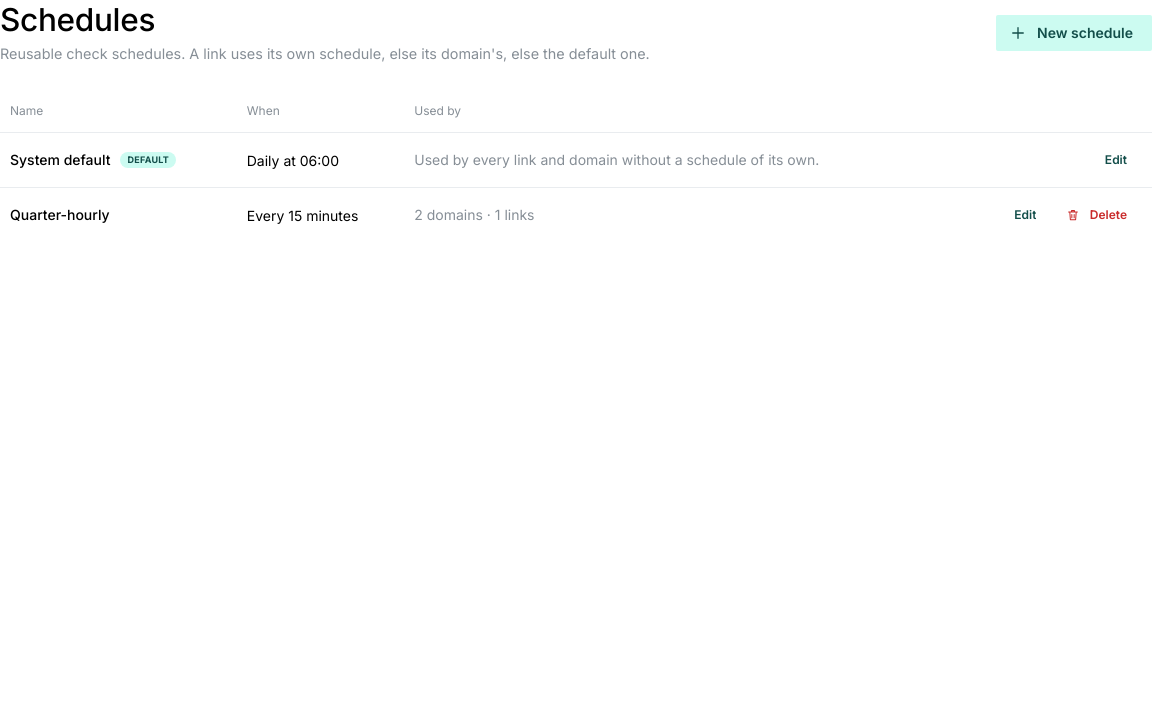
SchedulesPage — SCR-06 › FR-12: no weekday chosen and no name → errors, nothing sent
Click the button "New schedule". click: (1074, 33)
box: 996,15 -> 1151,51
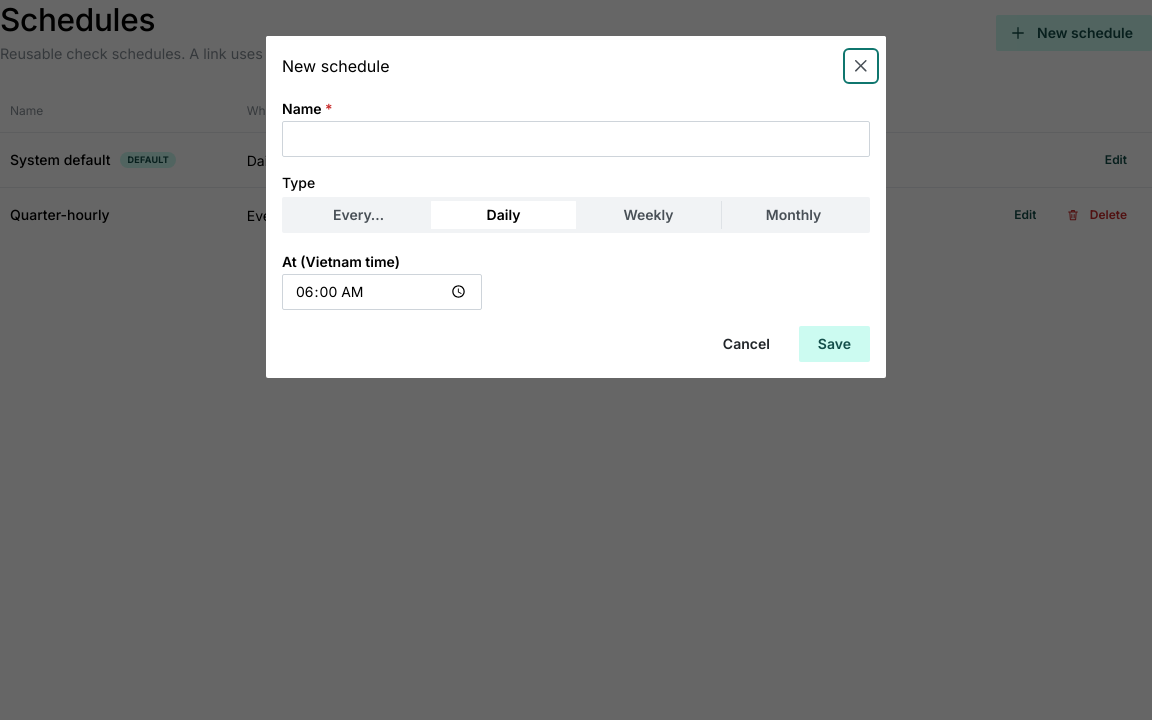
Click the text "Weekly". click: (648, 215)
box: 623,206 -> 674,223
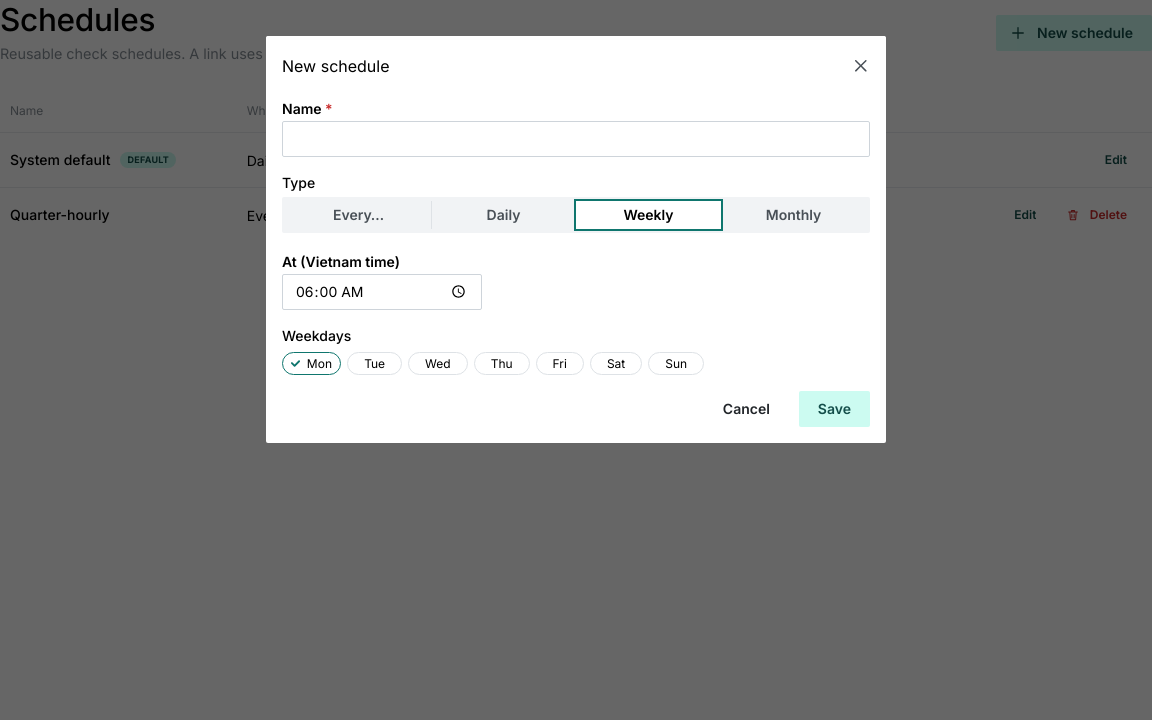
Click the text "Mon". click: (319, 363)
box: 307,353 -> 332,374
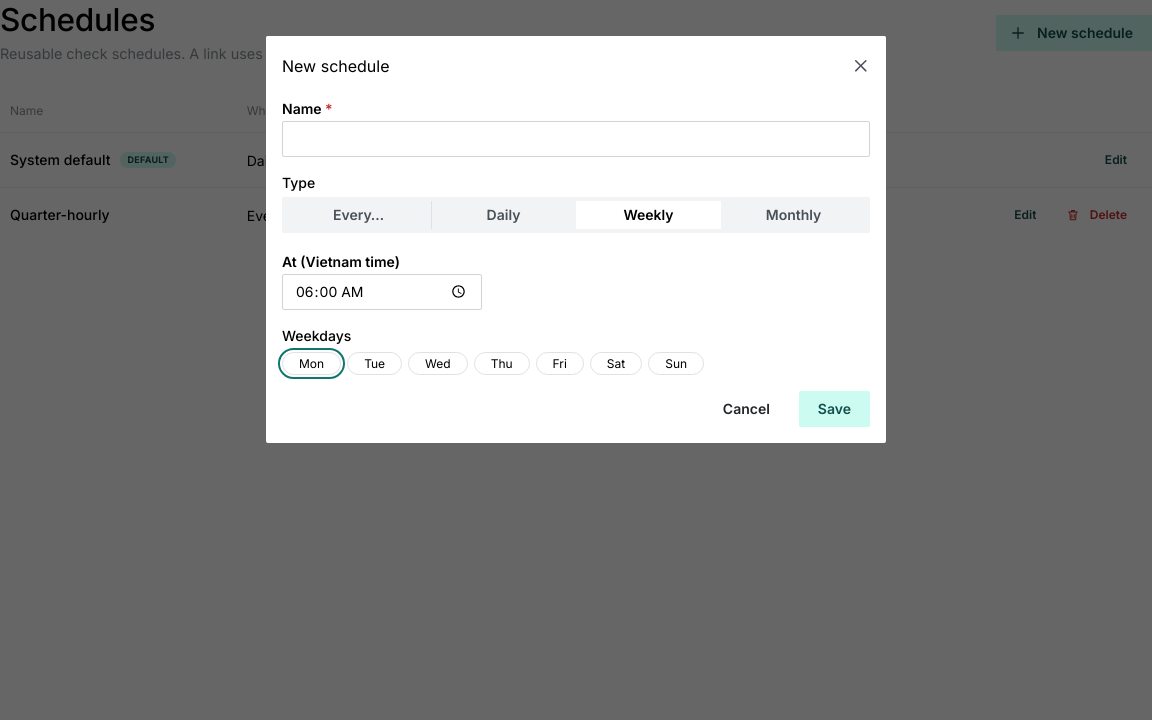
Click the button "Save". click: (834, 409)
box: 799,391 -> 870,427
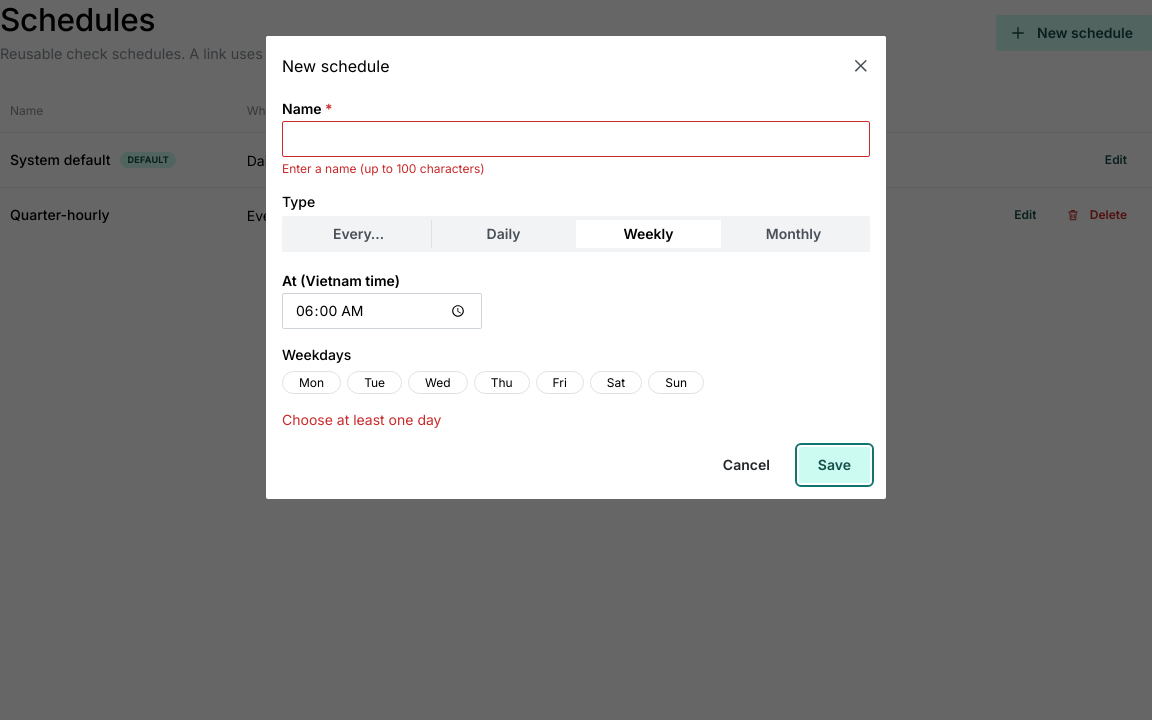
Expected: the text "Enter a name (up to 100 characters)" is shown, 282,161 -> 485,176
Expected: the text "Choose at least one day" is shown, 282,411 -> 442,428
